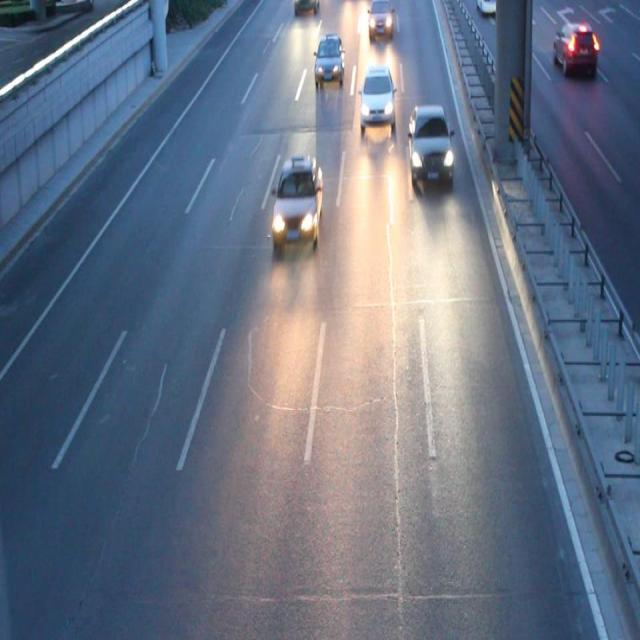car: (271, 157, 322, 250), (406, 106, 453, 187), (358, 66, 396, 133), (312, 36, 343, 86), (367, 1, 394, 40)
